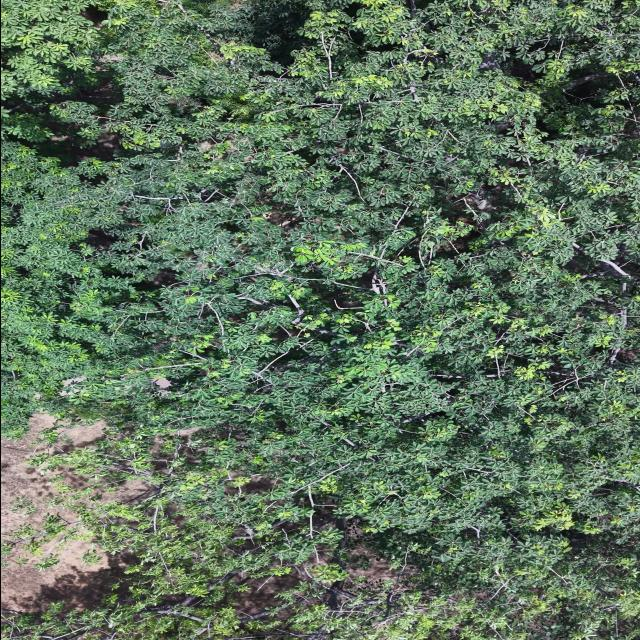DRY_AREA: (1, 540, 136, 611), (1, 414, 55, 538), (1, 414, 54, 538)
VEGETATION_TREE: (1, 0, 639, 639)
